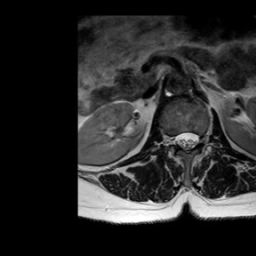CCS_normal: (183, 122, 191, 159)
LFS_stenosis: (198, 126, 206, 150)
LLS_normal: (191, 123, 198, 151)
RFS_normal: (166, 125, 175, 151)
RLS_normal: (175, 124, 183, 152)
